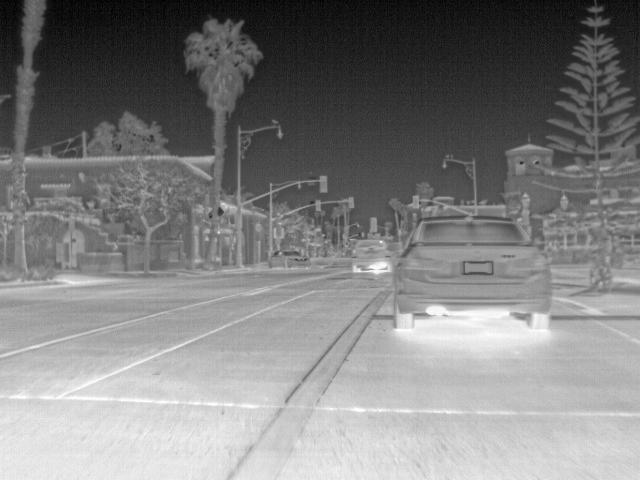car: (392, 216, 553, 331), (351, 248, 395, 274), (267, 249, 311, 269)
person: (587, 225, 615, 277)
